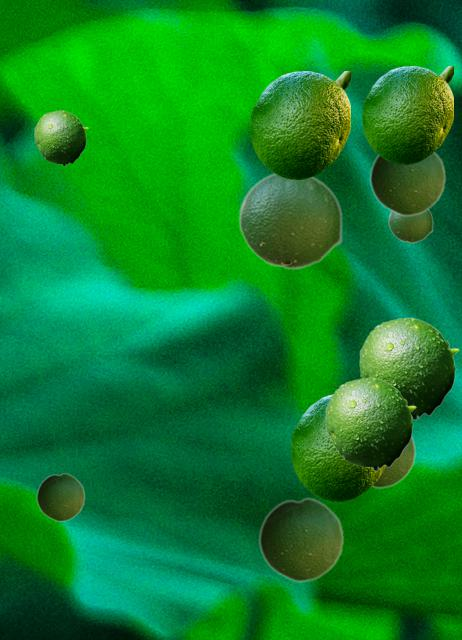dalandan: (250, 71, 349, 178), (359, 317, 458, 419), (238, 172, 342, 269), (291, 394, 385, 500), (362, 66, 452, 163), (325, 377, 415, 470), (258, 496, 343, 582), (369, 151, 445, 216), (34, 110, 87, 165), (36, 472, 84, 521), (371, 435, 415, 488), (388, 210, 432, 242)
